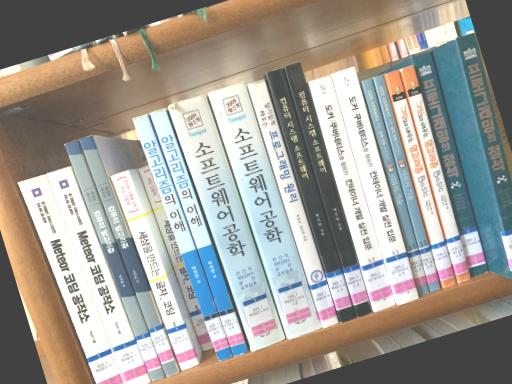book-spine: (168, 94, 285, 352), (208, 81, 321, 340), (132, 115, 233, 361), (150, 109, 247, 356), (65, 140, 164, 382), (80, 135, 179, 377), (266, 68, 355, 323), (46, 166, 150, 384), (17, 175, 124, 384), (248, 80, 338, 328), (285, 62, 372, 318), (308, 75, 395, 313), (333, 67, 418, 305), (110, 170, 198, 371), (412, 51, 487, 276), (385, 70, 456, 288), (401, 65, 470, 282), (361, 79, 429, 295), (373, 74, 440, 292), (139, 166, 214, 351), (455, 33, 512, 269)
